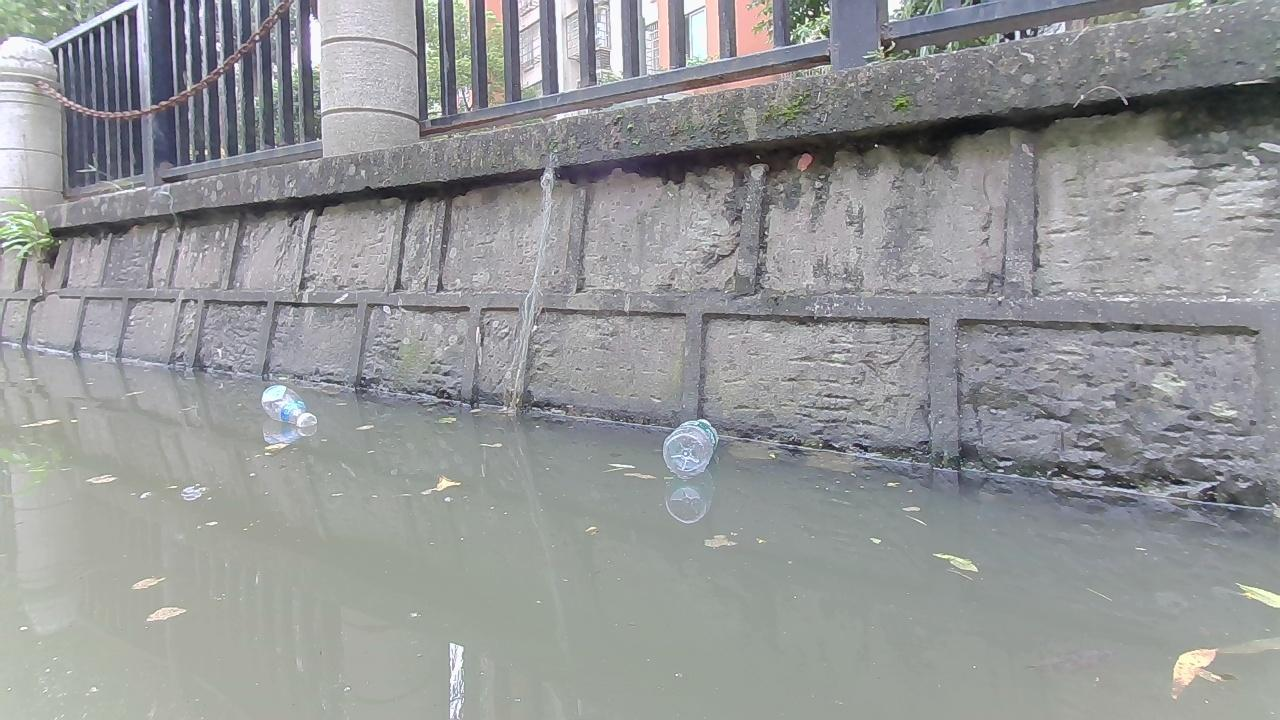bottle: (661, 414, 722, 477), (259, 382, 317, 425)
